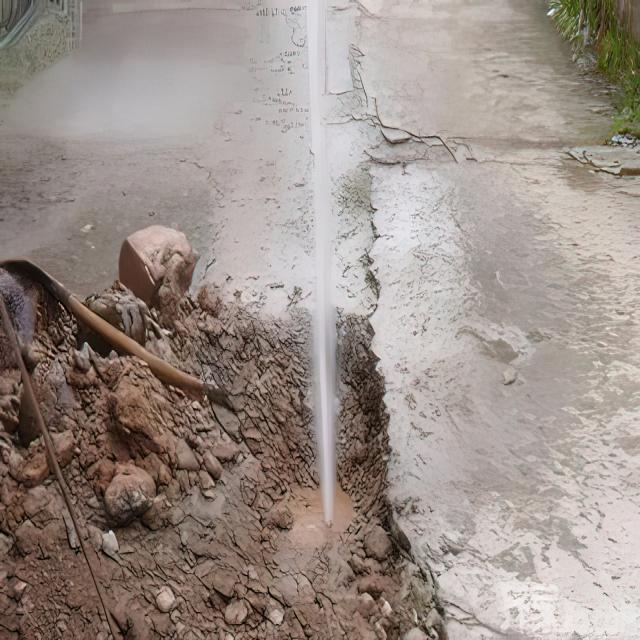leak: (308, 0, 336, 524)
